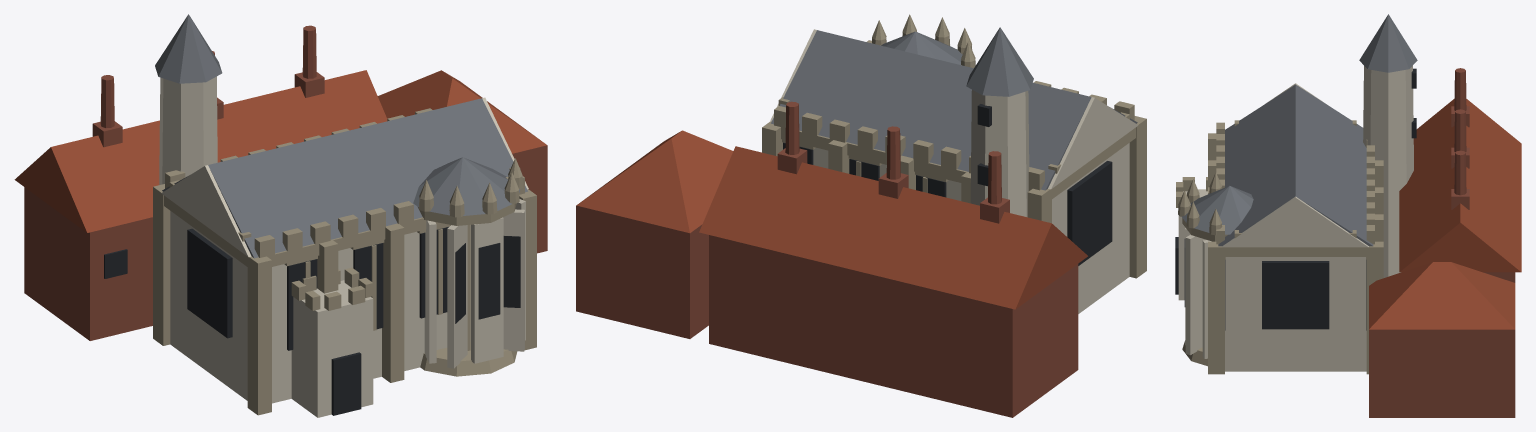
Rendered from crosby_hall.glb.
3 views of the same model, side by side, from view 1: azimuth 30°, elevation 25°; view 2: azimuth 150°, elevation 25°; view 3: azimuth 270°, elevation 25° (orthographic). The views are drawn at different scales.
Parts seen in each view (by area): view 1: crosby_hall; view 2: crosby_hall; view 3: crosby_hall.
Boxes of the visible parts, x1,y1,x2,y2 form: crosby_hall: (14, 14, 547, 417); crosby_hall: (576, 14, 1146, 417); crosby_hall: (1175, 14, 1521, 417).
Bounding box in the file's own units: 35 × 23.7 × 28.35.
